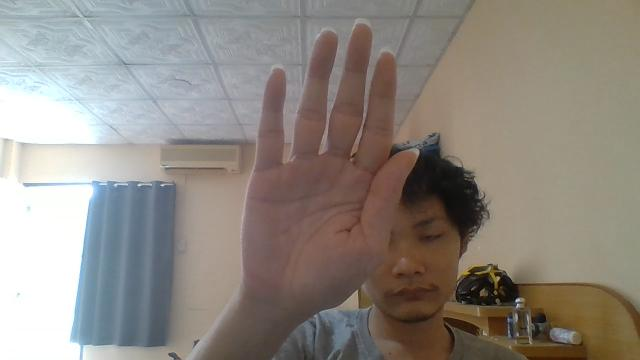Stop: (238, 18, 418, 318)
